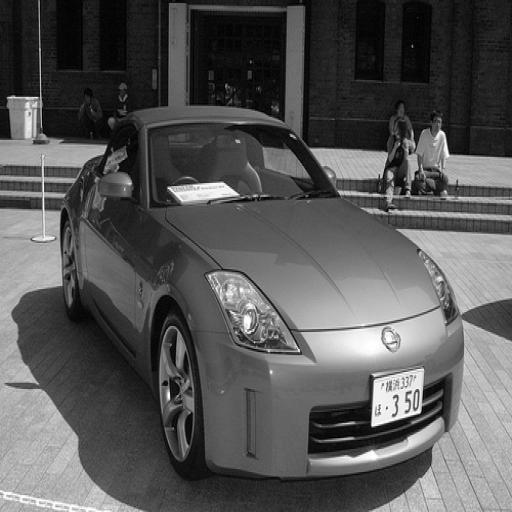person: (412, 108, 450, 196), (383, 122, 412, 212), (388, 100, 417, 157), (108, 78, 133, 134), (76, 89, 103, 137)
